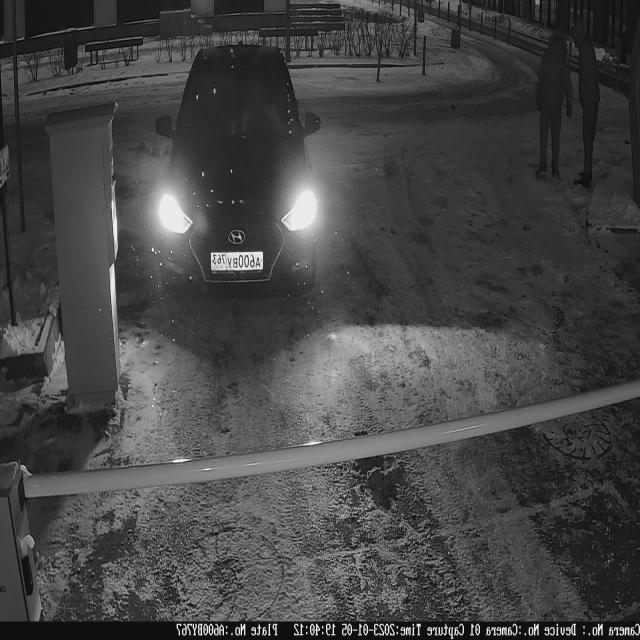car-plate-numbers: (210, 250, 266, 278)
